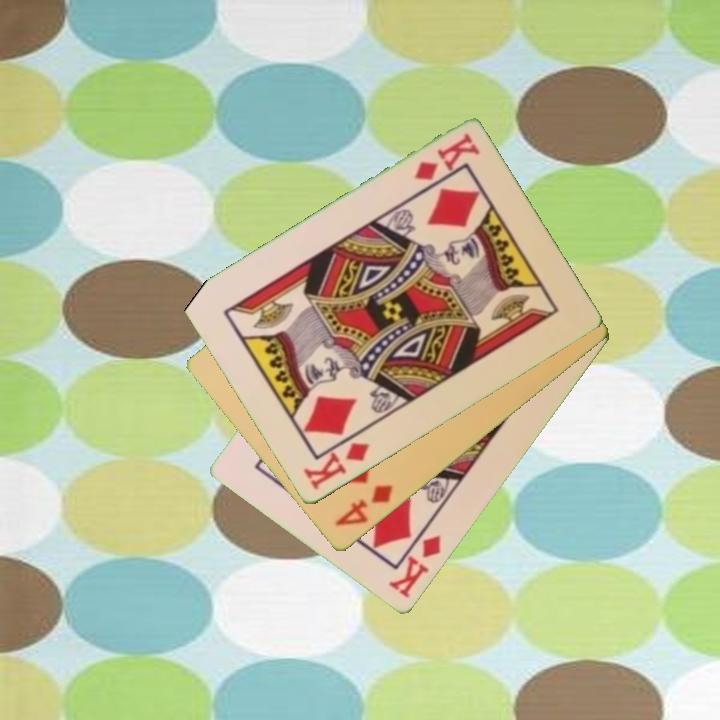4d: (331, 481, 396, 530)
Kd: (385, 532, 444, 602), (299, 439, 372, 494), (410, 130, 482, 185)
